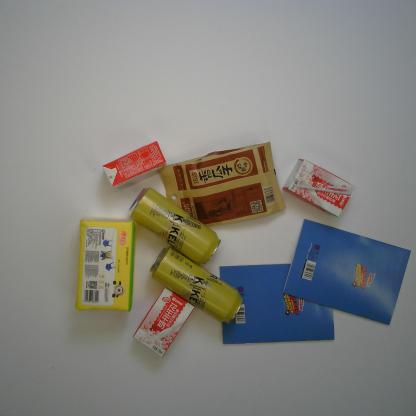Alcohol: (128, 186, 222, 266), (148, 246, 244, 324)
Dried Food: (160, 141, 287, 227)
Milk: (132, 287, 195, 359), (282, 158, 356, 218), (102, 140, 167, 188)
Stationery: (282, 218, 412, 326), (219, 262, 335, 345)
Tissue: (75, 216, 138, 312)
